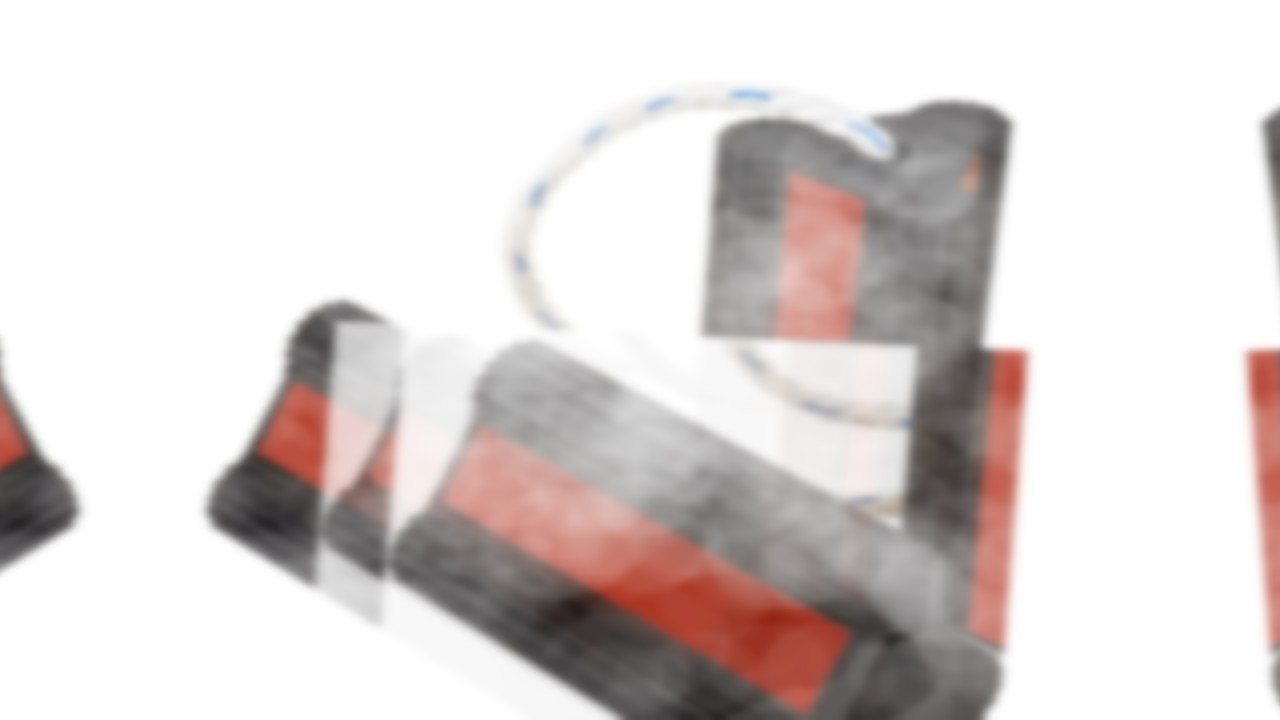chock: (186, 287, 807, 720), (367, 325, 1028, 720), (302, 321, 887, 720), (673, 83, 1029, 651), (0, 287, 99, 720)
